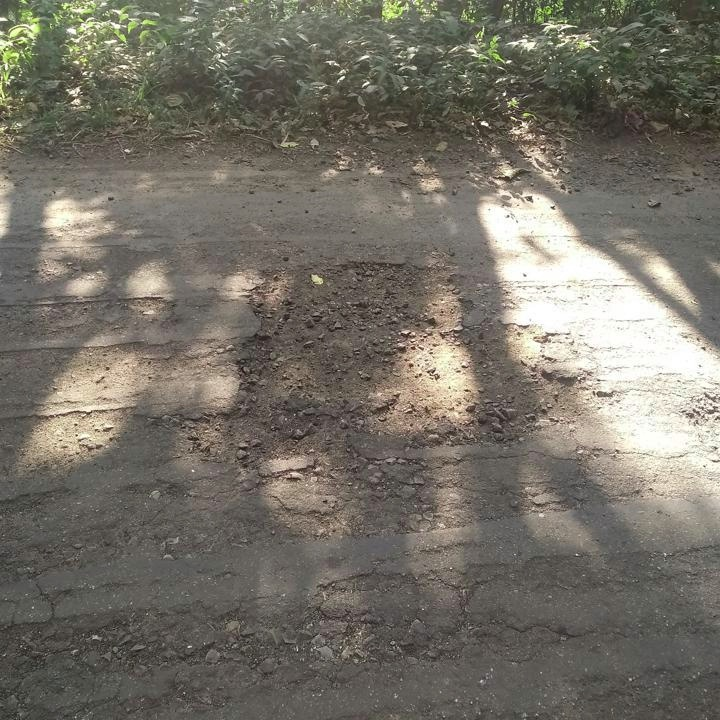pothole: (214, 256, 596, 480)
